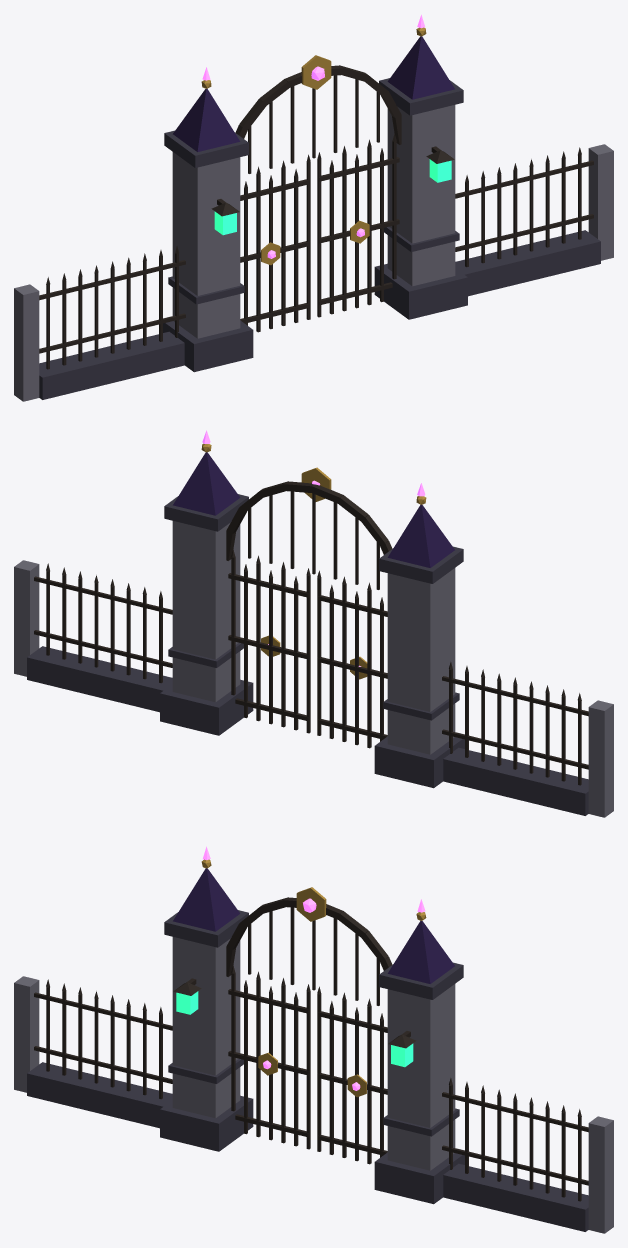
The model's file is school_gate.glb.
3 views of the same model, one above another, from view 1: azimuth 30°, elevation 25°; view 2: azimuth 150°, elevation 25°; view 3: azimuth 330°, elevation 25° (orthographic).
Visible parts, largest first — view 1: Shaft, Shaft.001, Plinth_L, Plinth_R, Base.001, EndPost_L, Base, EndPost_R, Finial.001, Finial, Cap, Cap.001 (+17 smaller); view 2: Shaft, Shaft.001, Plinth_L, Plinth_R, Base.001, EndPost_L, Base, EndPost_R, Finial.001, Finial, Cap, Cap.001 (+18 smaller); view 3: Shaft.001, Shaft, Plinth_R, Plinth_L, Base, EndPost_R, Base.001, EndPost_L, Finial, Finial.001, Cap.001, Cap (+17 smaller).
Part boxes in pixels (x1,y1,x2,y2): Shaft: [172, 152, 240, 338]; Shaft.001: [387, 105, 455, 286]; Plinth_L: [39, 331, 184, 399]; Plinth_R: [455, 230, 600, 296]; Base.001: [374, 263, 467, 319]; EndPost_L: [14, 284, 39, 401]; Base: [163, 317, 253, 372]; EndPost_R: [588, 144, 613, 260]; Finial.001: [387, 36, 454, 99]; Finial: [173, 88, 240, 151]; Cap: [164, 130, 248, 167]; Cap.001: [379, 78, 463, 115]; Shaft: [387, 568, 455, 754]; Shaft.001: [172, 521, 240, 702]; Plinth_L: [443, 747, 588, 815]; Plinth_R: [27, 646, 172, 712]; Base.001: [160, 679, 253, 735]; EndPost_L: [588, 700, 613, 817]; Base: [374, 733, 464, 788]; EndPost_R: [14, 560, 39, 676]; Finial.001: [173, 452, 240, 515]; Finial: [387, 504, 454, 567]; Cap: [379, 546, 463, 583]; Cap.001: [164, 494, 248, 531]; Shaft.001: [387, 984, 455, 1170]; Shaft: [172, 937, 240, 1118]; Plinth_R: [443, 1163, 588, 1231]; Plinth_L: [27, 1062, 172, 1128]; Base: [160, 1095, 253, 1151]; EndPost_R: [588, 1116, 613, 1233]; Base.001: [374, 1149, 464, 1204]; EndPost_L: [14, 976, 39, 1092]; Finial: [173, 868, 240, 931]; Finial.001: [387, 920, 454, 983]; Cap.001: [379, 962, 463, 999]; Cap: [164, 910, 248, 947].
Bounding box in the file's own units: 11 × 5.09 × 1.34.
